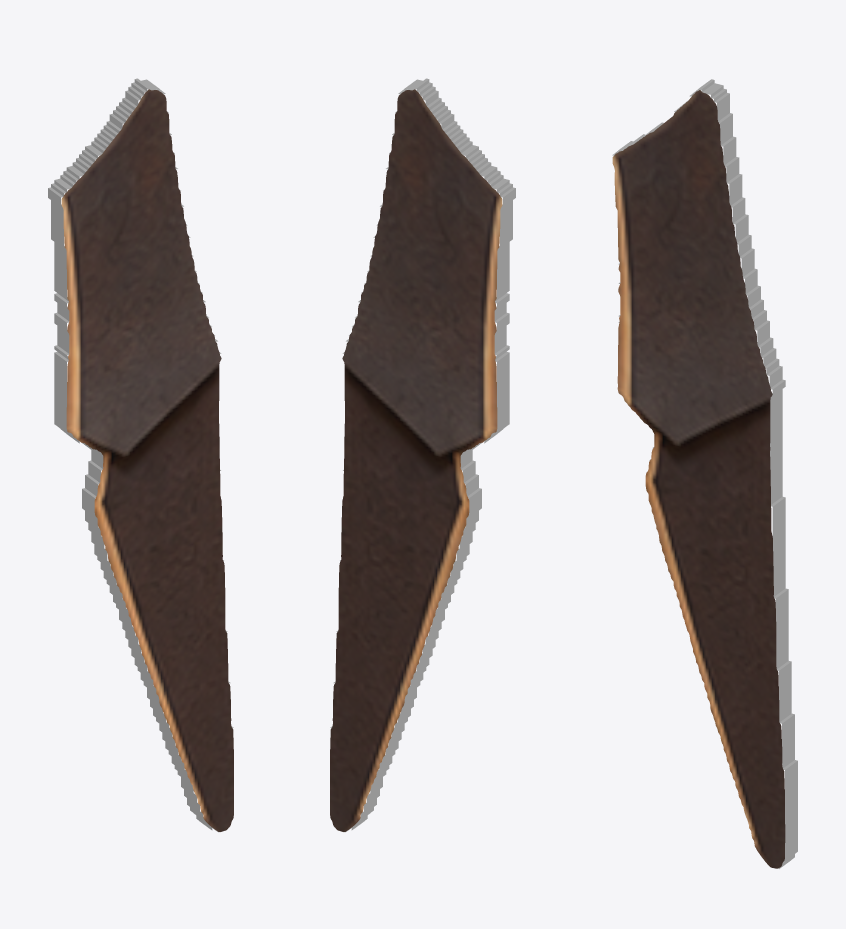
File: Variant07Lower.glb
3 renders of one model, left to right at view 1: azimuth 30°, elevation 25°; view 2: azimuth 150°, elevation 25°; view 3: azimuth 330°, elevation 25°, orthographic.
Parts seen in each view (by area): view 1: PaperVolume; view 2: PaperVolume; view 3: PaperVolume.
Part boxes in pixels (x1,y1,x2,y2): PaperVolume: (48, 78, 233, 832); PaperVolume: (330, 78, 515, 832); PaperVolume: (612, 79, 797, 868).
Bounding box in the file's own units: 0.86 × 2.84 × 0.08.
3 materials, 2 textured.
